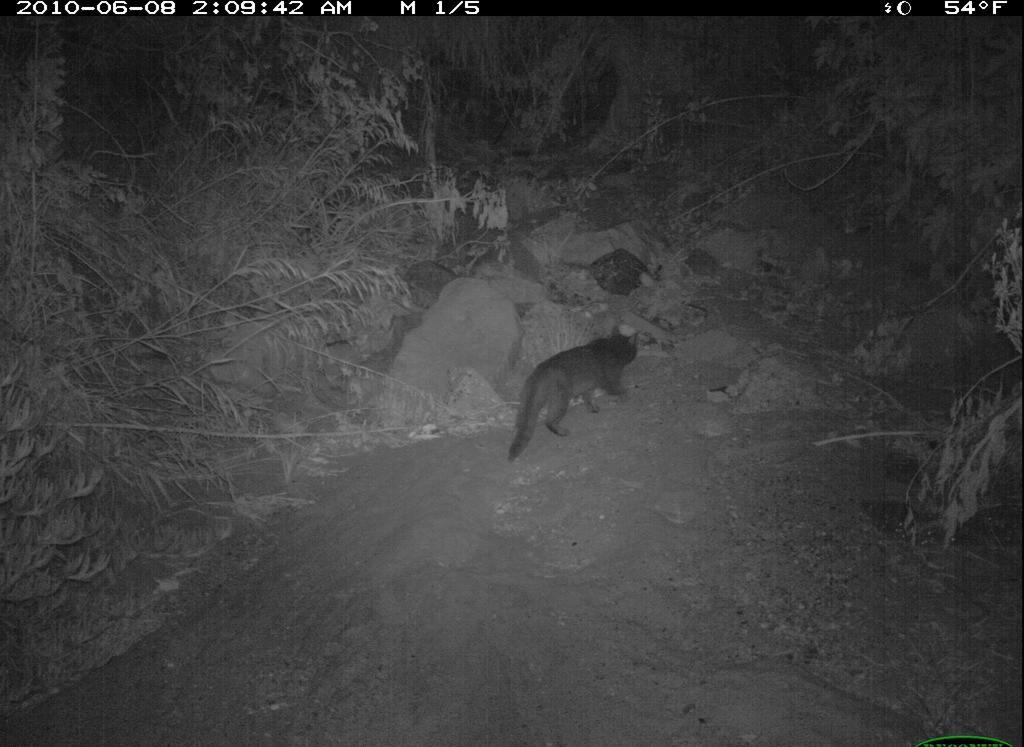cat: (491, 310, 662, 469)
